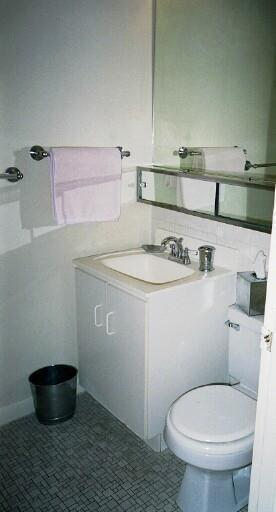Bote de Basura: (25, 363, 91, 430)
Lavamanos: (92, 233, 229, 298)
Puerta: (251, 197, 274, 510)
Sanitario: (164, 310, 263, 505)
